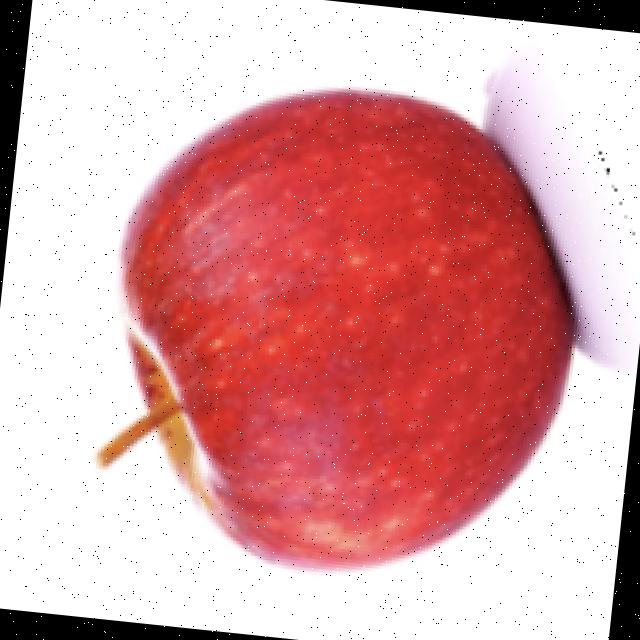apple: (89, 47, 632, 578)
